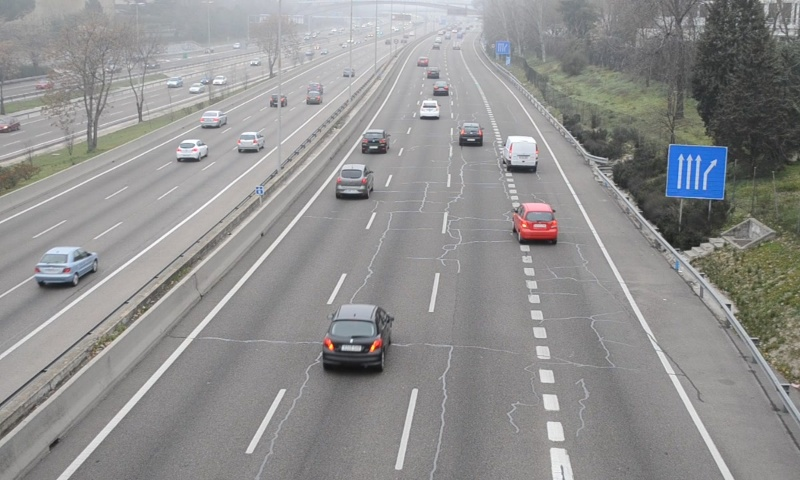car: (323, 305, 391, 370), (515, 202, 558, 240), (337, 163, 371, 196), (361, 130, 390, 152), (459, 122, 484, 146), (418, 97, 441, 118), (433, 80, 448, 95)
van: (506, 136, 538, 170)
